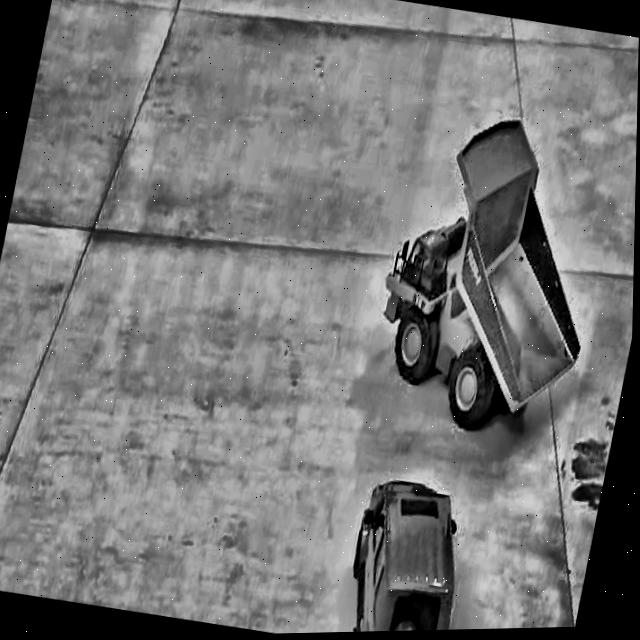dump_truck: (361, 91, 626, 438)
light_vehicle: (329, 464, 489, 634)
